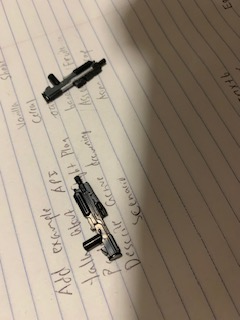rifle: (66, 174, 125, 264), (39, 54, 107, 104)
